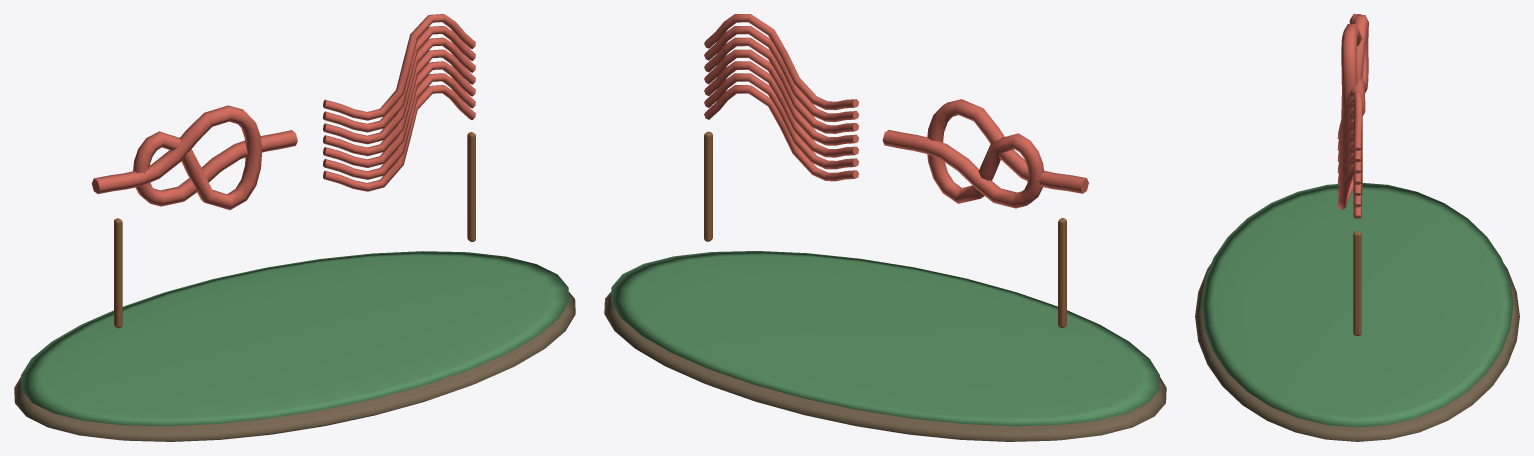
File: complete-second-tight-stretch.glb
3 renders of one model, left to right at view 1: azimuth 30°, elevation 25°; view 2: azimuth 150°, elevation 25°; view 3: azimuth 270°, elevation 25°, orthographic. The views are drawn at different scales.
Parts seen in each view (by area): view 1: complete-second-tight-stretch_surface_01, complete-second-tight-stretch_surface_02, complete-second-tight-stretch_surface_00, complete-second-tight-stretch_surface_03; view 2: complete-second-tight-stretch_surface_01, complete-second-tight-stretch_surface_02, complete-second-tight-stretch_surface_00, complete-second-tight-stretch_surface_03; view 3: complete-second-tight-stretch_surface_01, complete-second-tight-stretch_surface_00, complete-second-tight-stretch_surface_02, complete-second-tight-stretch_surface_03.
Boxes of the visible parts, left/top/right/bottom form: complete-second-tight-stretch_surface_01: left=21, top=251, right=568, bottom=426; complete-second-tight-stretch_surface_02: left=91, top=14, right=475, bottom=209; complete-second-tight-stretch_surface_00: left=14, top=292, right=575, bottom=441; complete-second-tight-stretch_surface_03: left=114, top=132, right=475, bottom=328; complete-second-tight-stretch_surface_01: left=611, top=251, right=1159, bottom=426; complete-second-tight-stretch_surface_02: left=704, top=14, right=1088, bottom=208; complete-second-tight-stretch_surface_00: left=604, top=291, right=1166, bottom=441; complete-second-tight-stretch_surface_03: left=704, top=131, right=1066, bottom=327; complete-second-tight-stretch_surface_01: left=1201, top=183, right=1513, bottom=427; complete-second-tight-stretch_surface_00: left=1195, top=263, right=1519, bottom=441; complete-second-tight-stretch_surface_02: left=1337, top=14, right=1368, bottom=218; complete-second-tight-stretch_surface_03: left=1353, top=231, right=1361, bottom=335.
Bounding box in the file's own units: 4.56 × 2.59 × 2.5.
